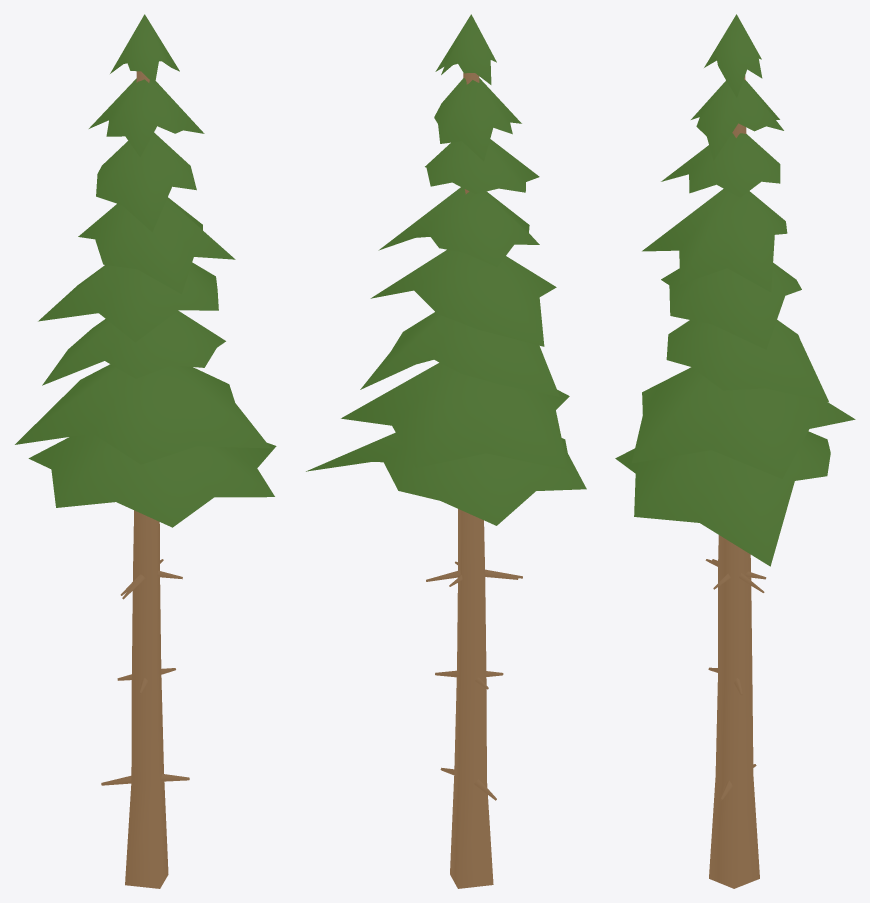
The model's file is Blender_Lodgepole_2_Far.glb.
3 views of the same model, side by side, from view 1: azimuth 30°, elevation 25°; view 2: azimuth 150°, elevation 25°; view 3: azimuth 270°, elevation 25° (orthographic).
Parts seen in each view (by area): view 1: Blender_Lodgepole_2_Far; view 2: Blender_Lodgepole_2_Far; view 3: Blender_Lodgepole_2_Far.
Part boxes in pixels (left/top/right/bottom): Blender_Lodgepole_2_Far: left=15, top=14, right=276, bottom=888; Blender_Lodgepole_2_Far: left=306, top=14, right=586, bottom=888; Blender_Lodgepole_2_Far: left=615, top=14, right=855, bottom=888.
Size of the model in its own units: 6.11 by 19.23 by 4.86.
